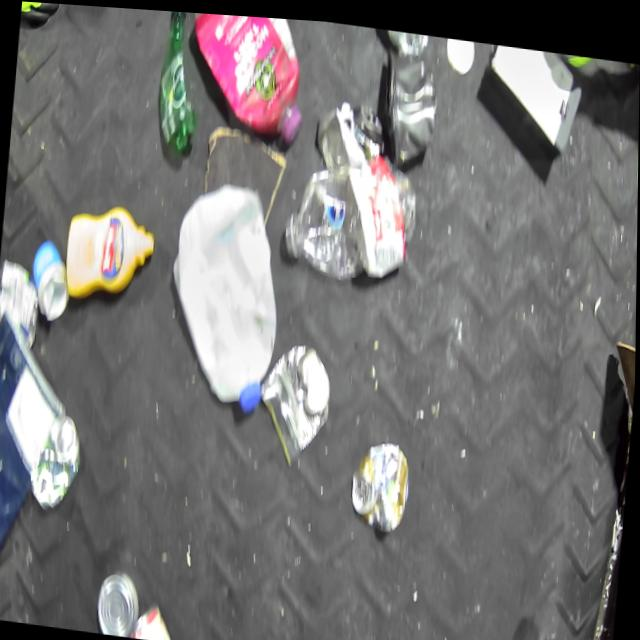can: (254, 332, 336, 469), (349, 431, 414, 532), (27, 407, 86, 516), (313, 87, 387, 172), (29, 233, 76, 325), (0, 254, 43, 353), (95, 564, 145, 636), (130, 593, 185, 640), (510, 631, 556, 640)
milk_jug: (161, 171, 290, 414)
plastic_bottle: (280, 138, 421, 287)
